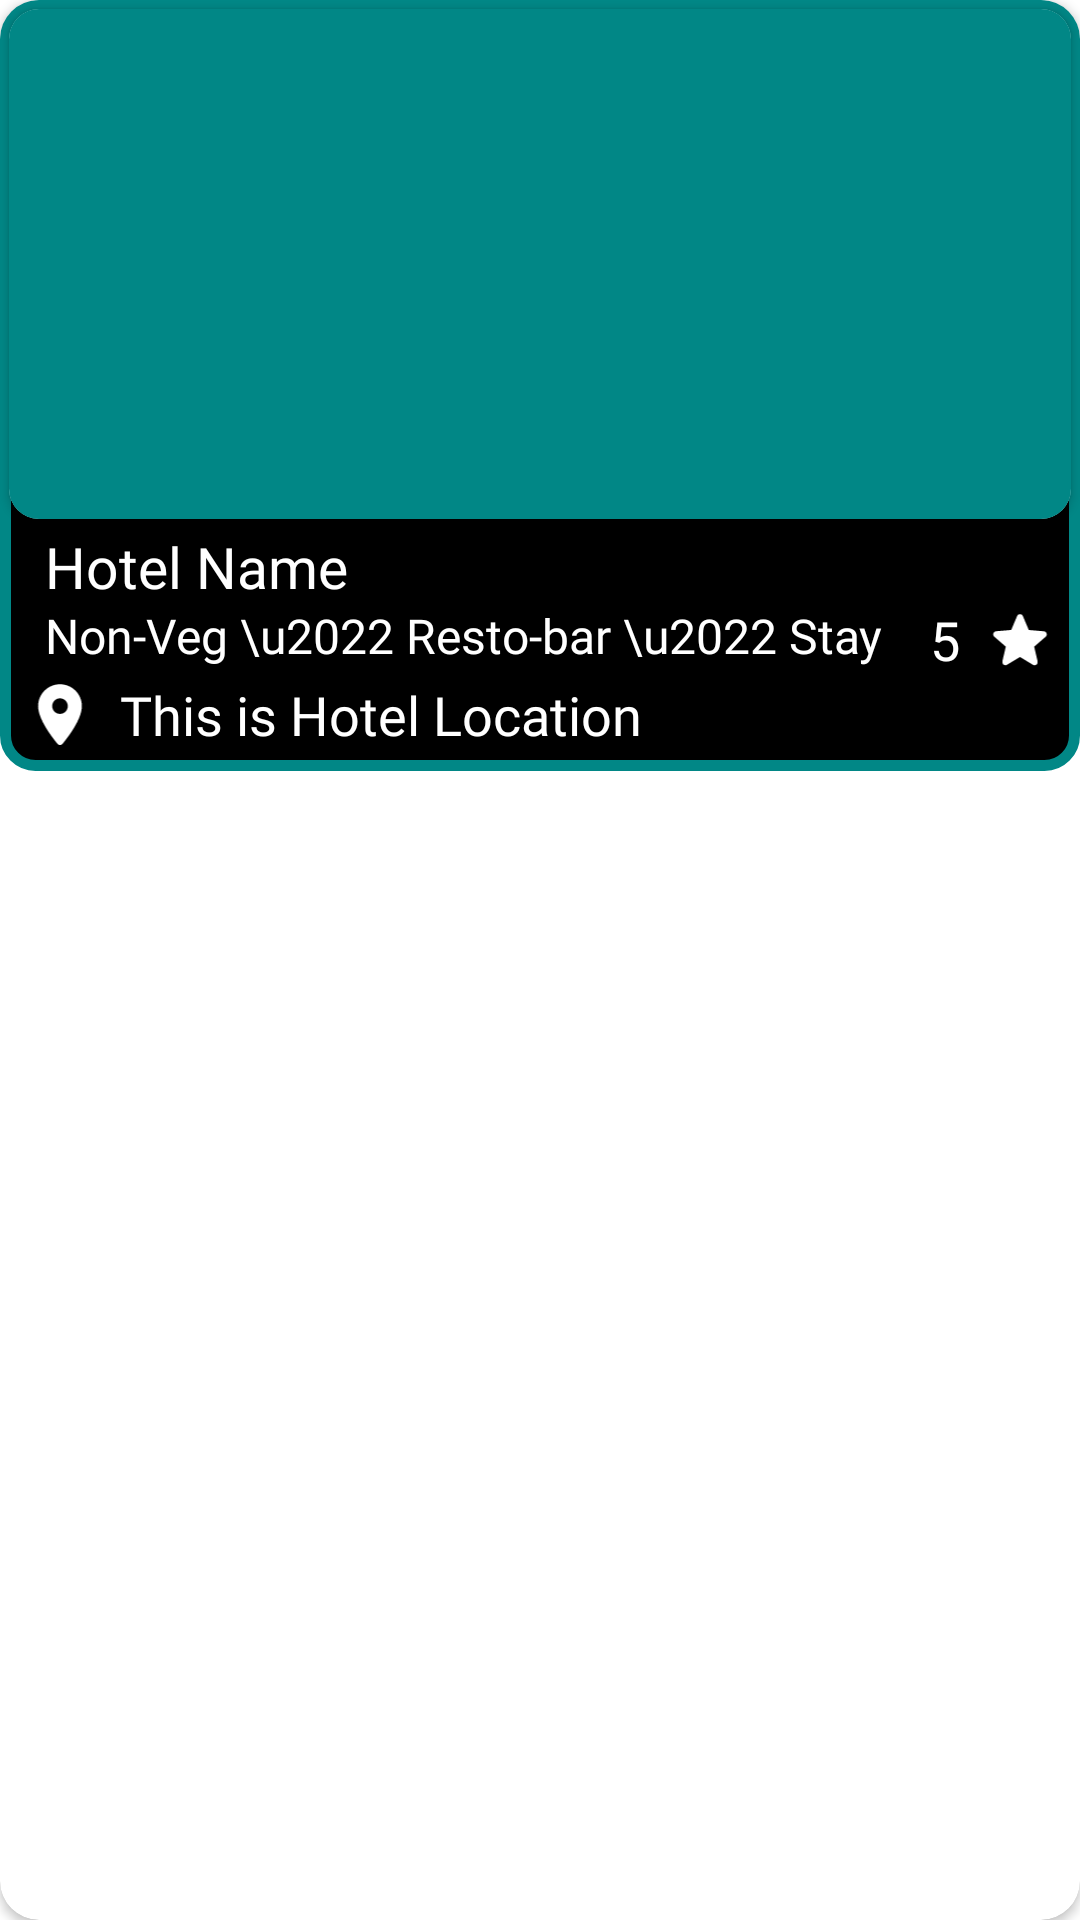

Point at icon controls on the screen. Image size 1080×1920, points as (x=x, y=y).
location on: (x=60, y=714)
star: (x=1020, y=640)
